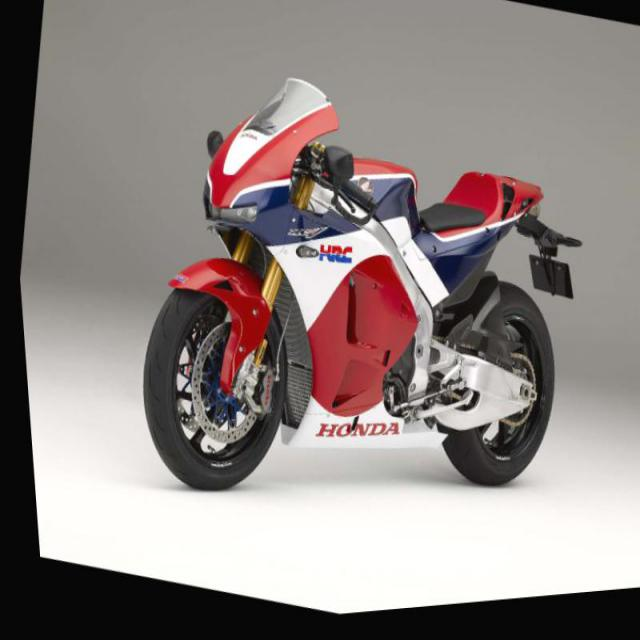HRC RCV 213: (105, 28, 610, 595)
